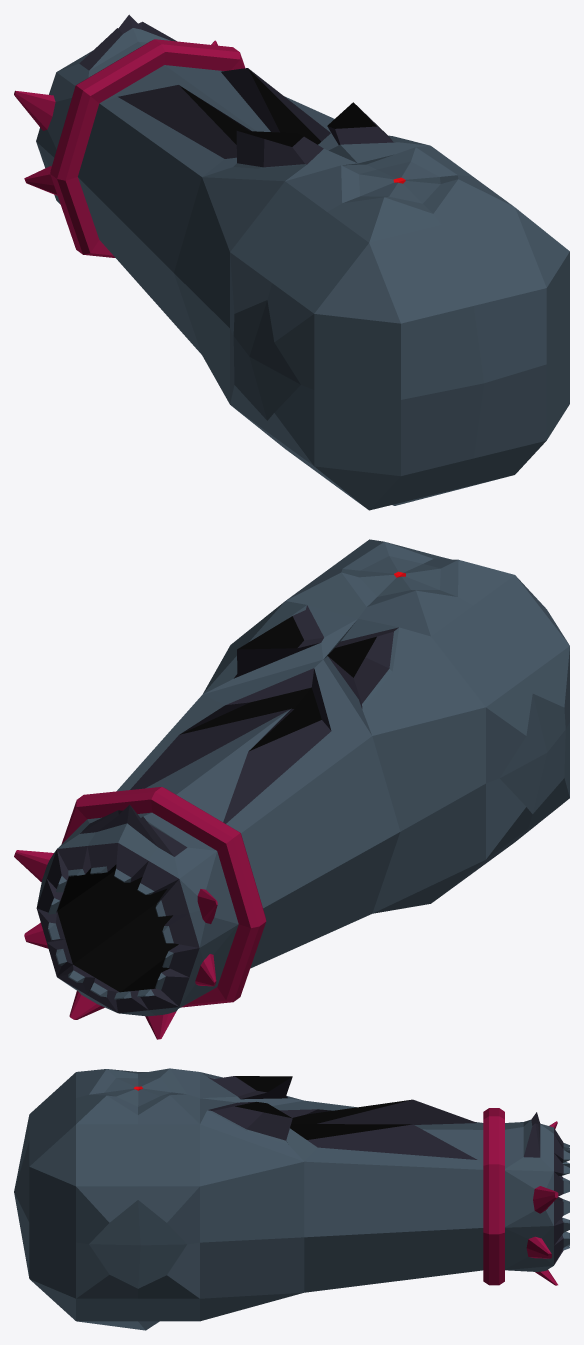
The model's file is ScreamingSkullMonolith.fbx.
3 renders of one model, top to bottom at view 1: azimuth 30°, elevation 25°; view 2: azimuth 150°, elevation 25°; view 3: azimuth 270°, elevation 25°, orthographic. The views are drawn at different scales.
Visible parts, largest first — view 1: Cube; view 2: Cube; view 3: Cube.
Boxes of the visible parts, x1=… form: Cube: x1=14, y1=14, x2=569, y2=510; Cube: x1=14, y1=539, x2=569, y2=1039; Cube: x1=14, y1=1068, x2=569, y2=1330.
Size of the model in its own units: 233 by 253 by 511.
